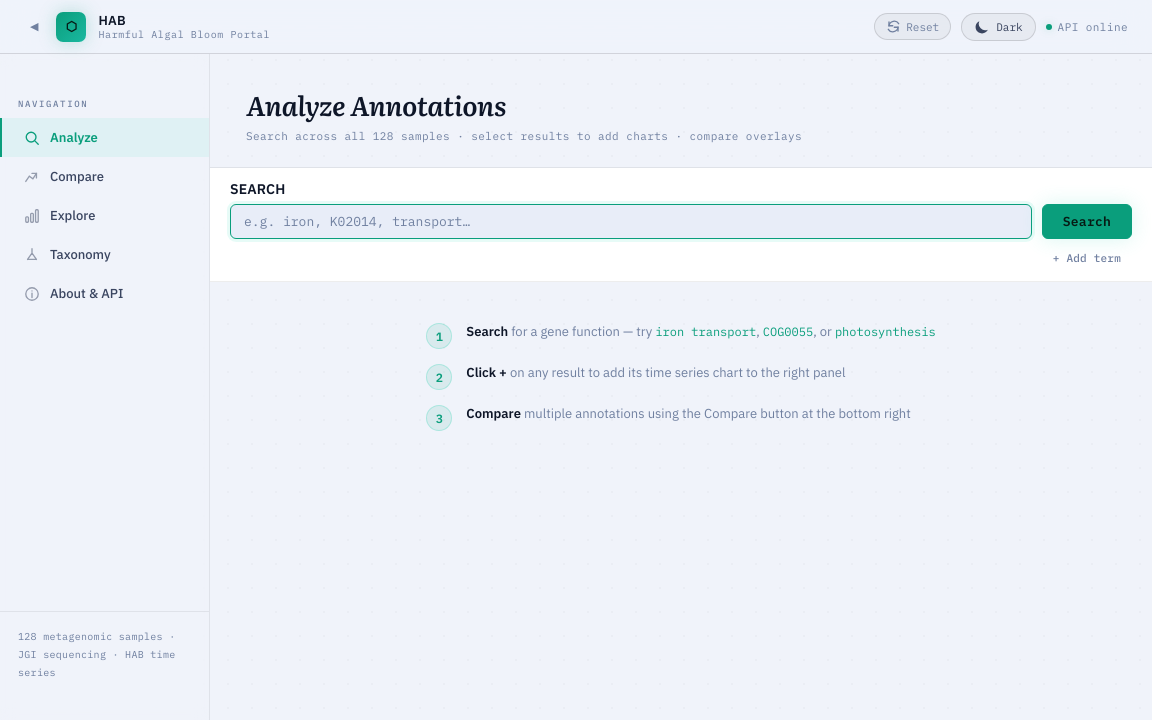
it: App shell › sidebar expand restores nav labels
The width and height of the screenshot is (1152, 720).
Click the button titled "collapse sidebar" at {"x": 34, "y": 26}, box [24, 17, 44, 36]
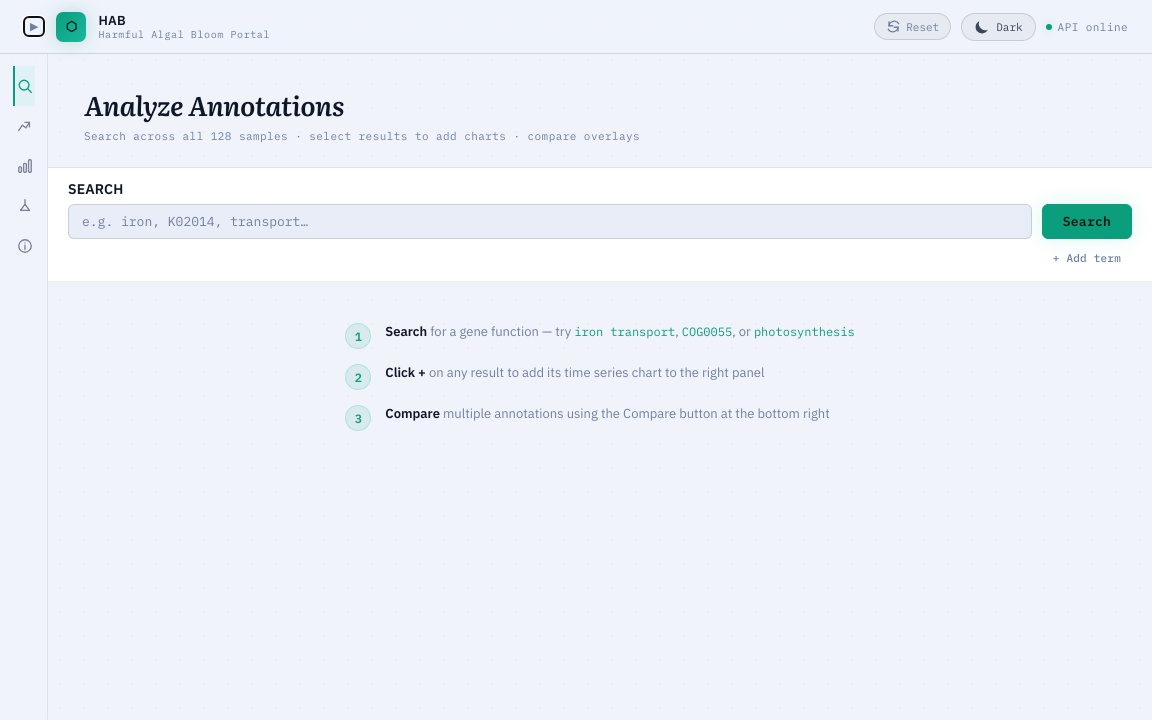
Click the button titled "expand sidebar" at {"x": 34, "y": 26}, box [24, 17, 44, 36]
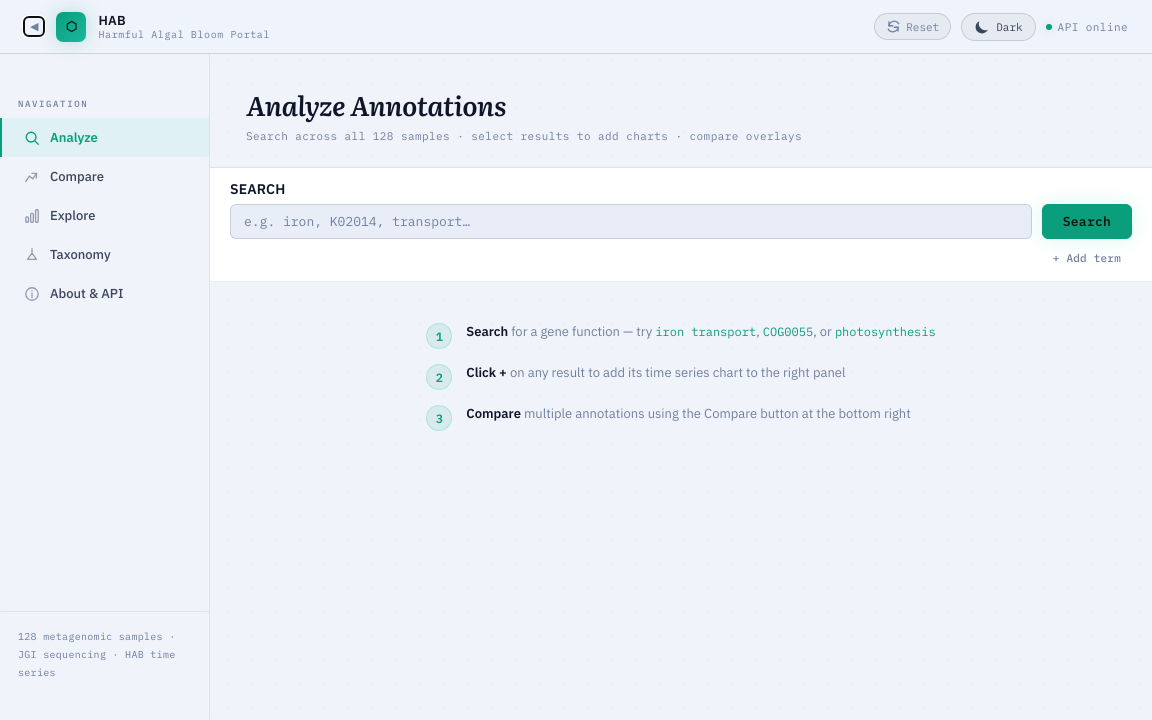
Expected: the text "Analyze" is shown, [50, 129, 98, 146]
